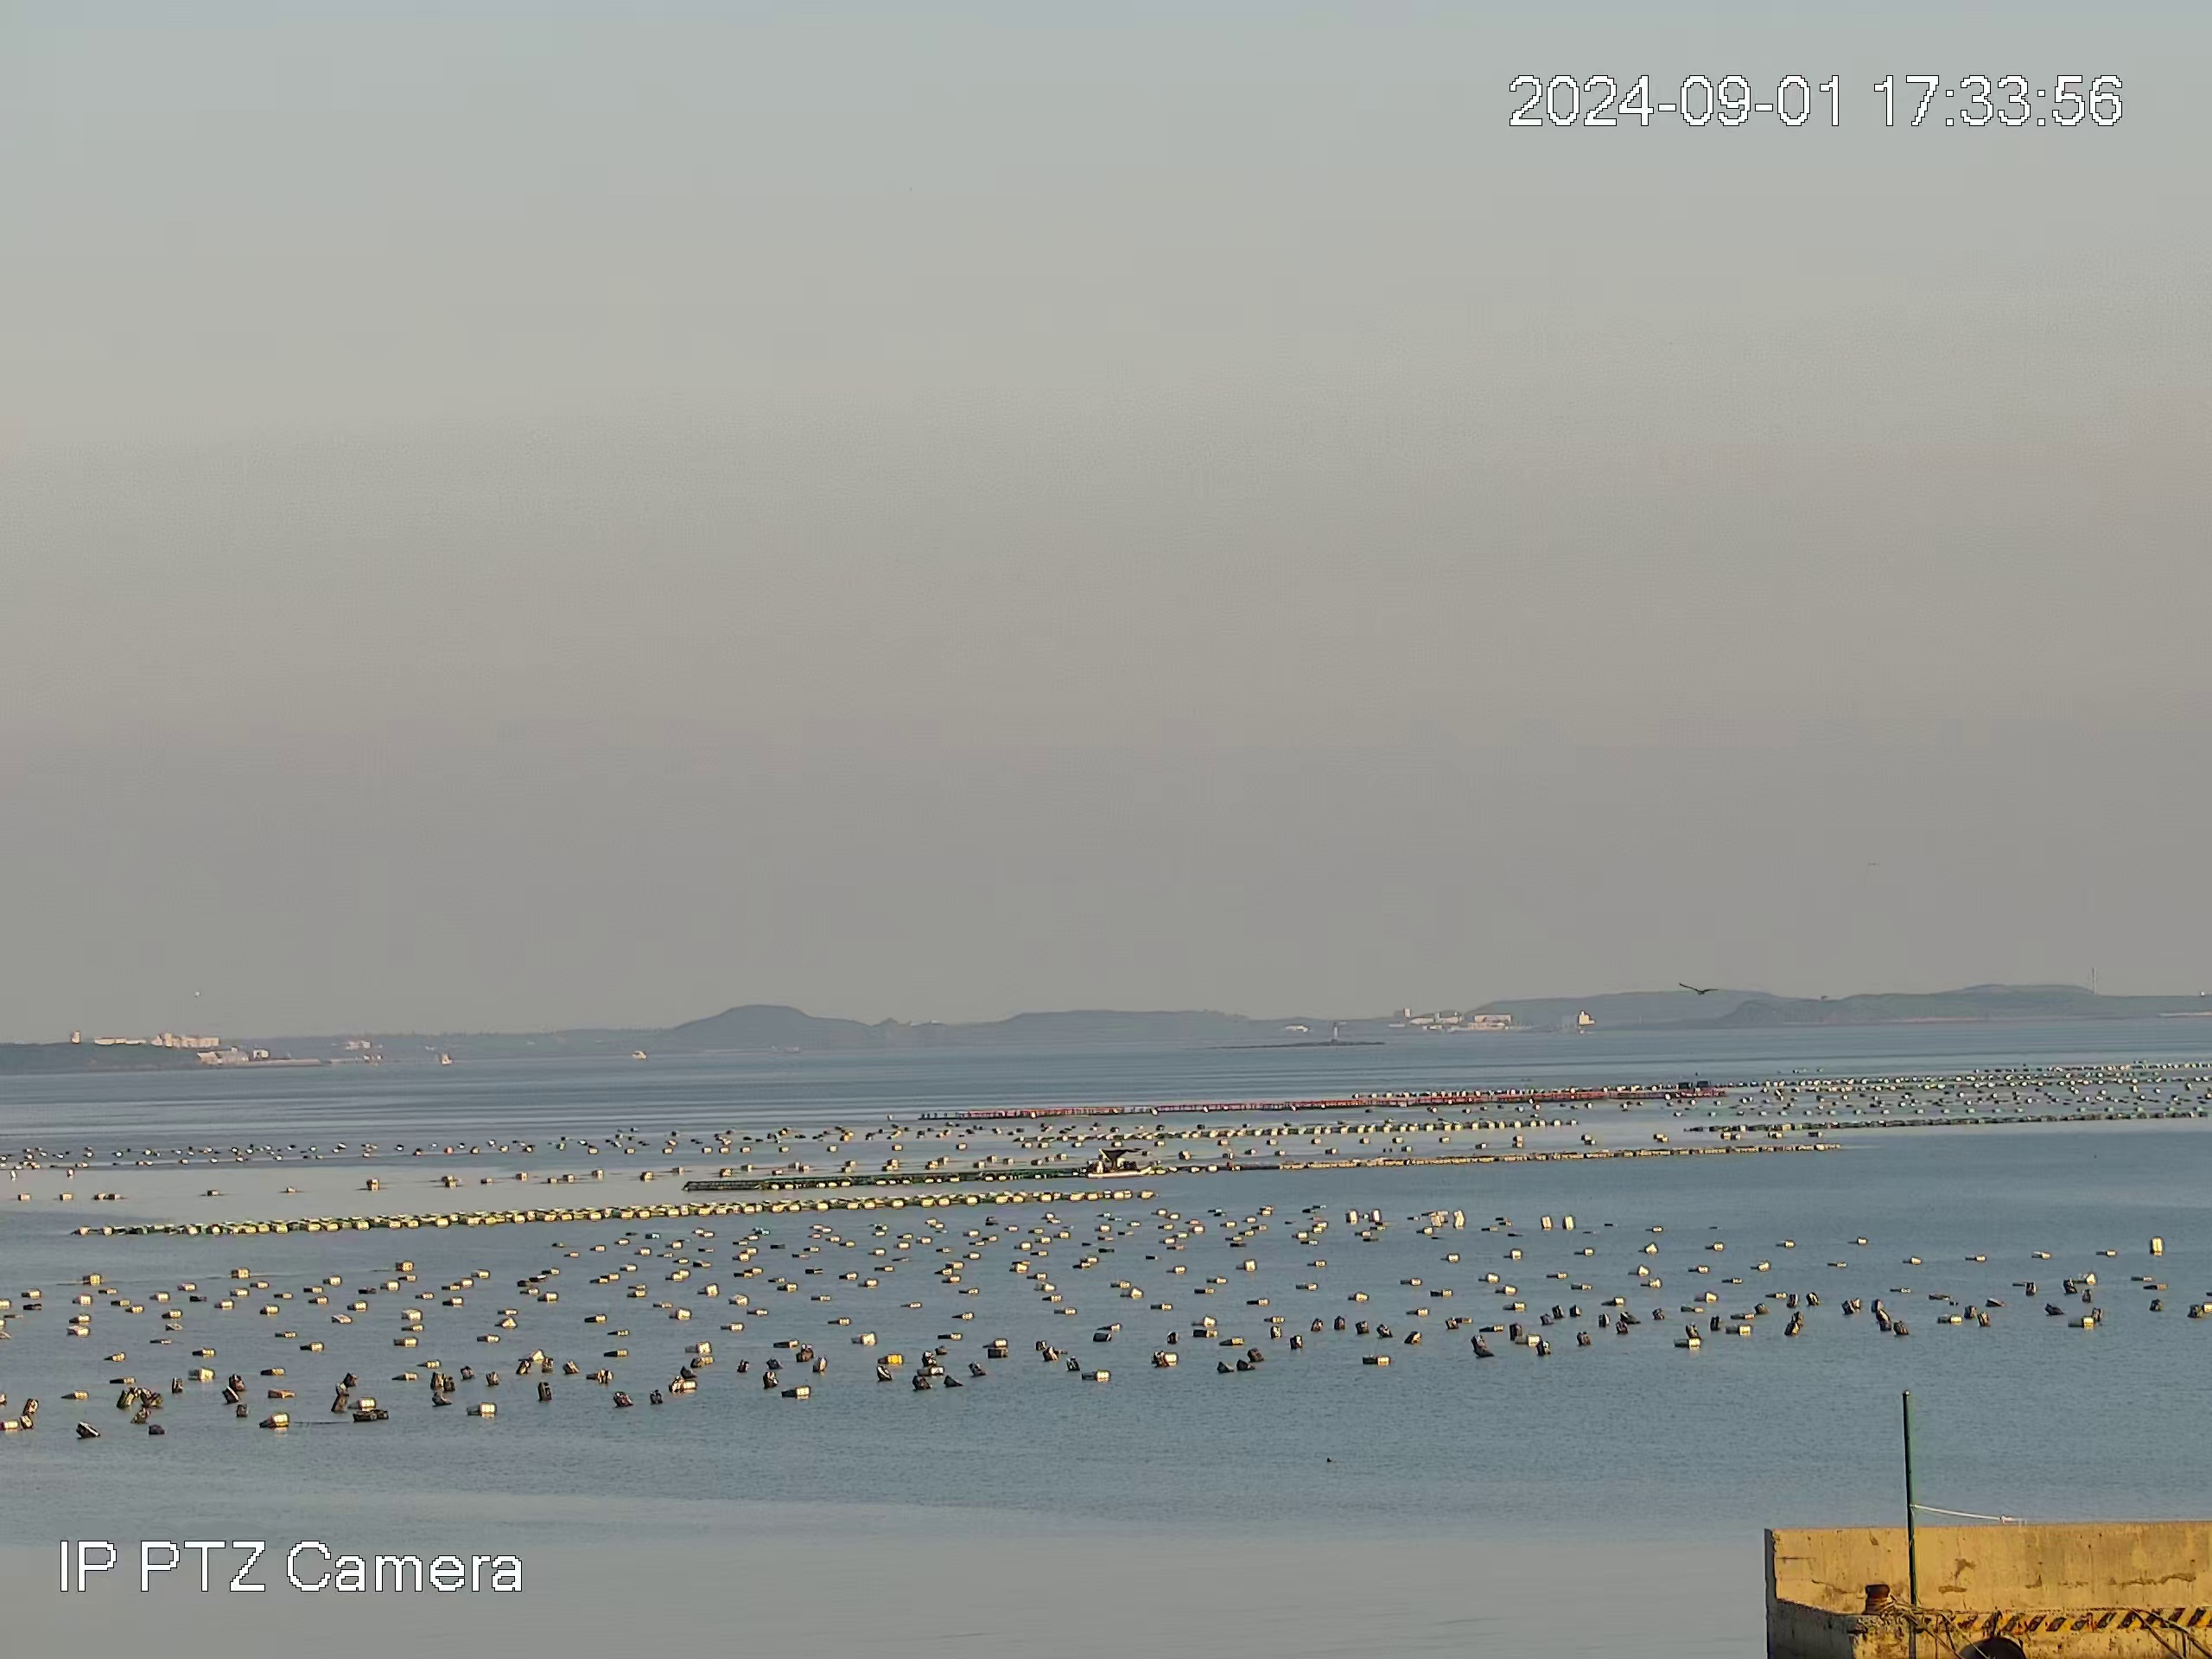boat: (1087, 1140, 1151, 1178)
